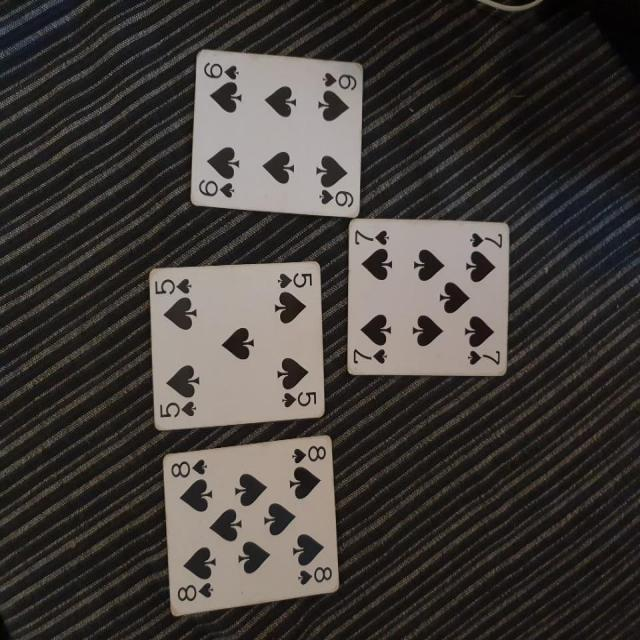5 Spades: (141, 256, 332, 426)
6 Spades: (180, 43, 370, 222)
7 Spades: (342, 214, 516, 379)
8 Spades: (157, 432, 346, 624)
